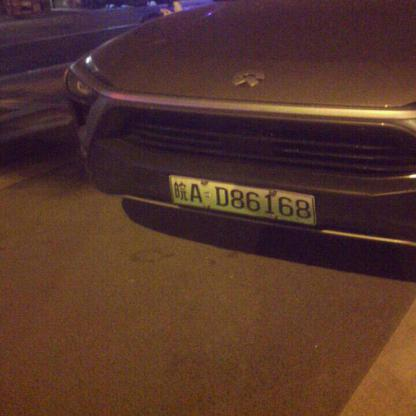lp: (171, 176, 314, 224)
